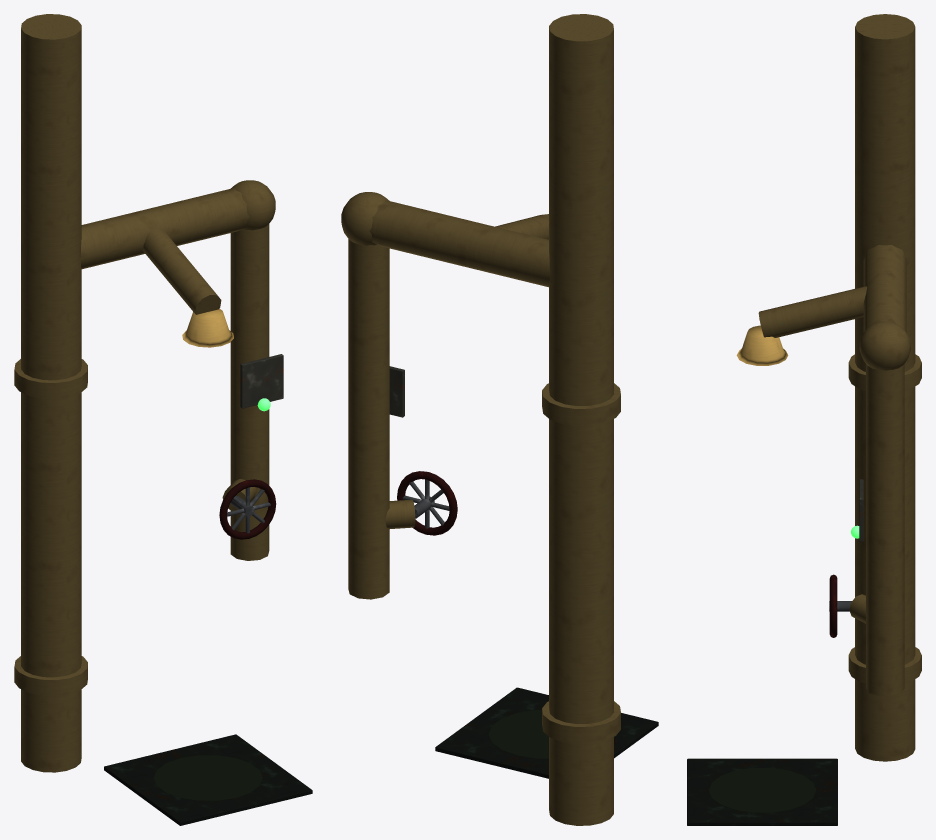
Rendered from valveStation.glb.
The picture shows the model from 3 angles, left to right: view 1: azimuth 30°, elevation 25°; view 2: azimuth 150°, elevation 25°; view 3: azimuth 270°, elevation 25°; orthographic projection. The views are drawn at different scales.
Visible parts, largest first — view 1: valveStation; view 2: valveStation; view 3: valveStation.
Boxes of the visible parts, <box> form: valveStation: <box>14,14,312,825</box>; valveStation: <box>341,14,658,825</box>; valveStation: <box>687,14,921,825</box>.
Bounding box in the file's own units: 1.34 × 3.7 × 1.09.
8 materials, 6 textured.
